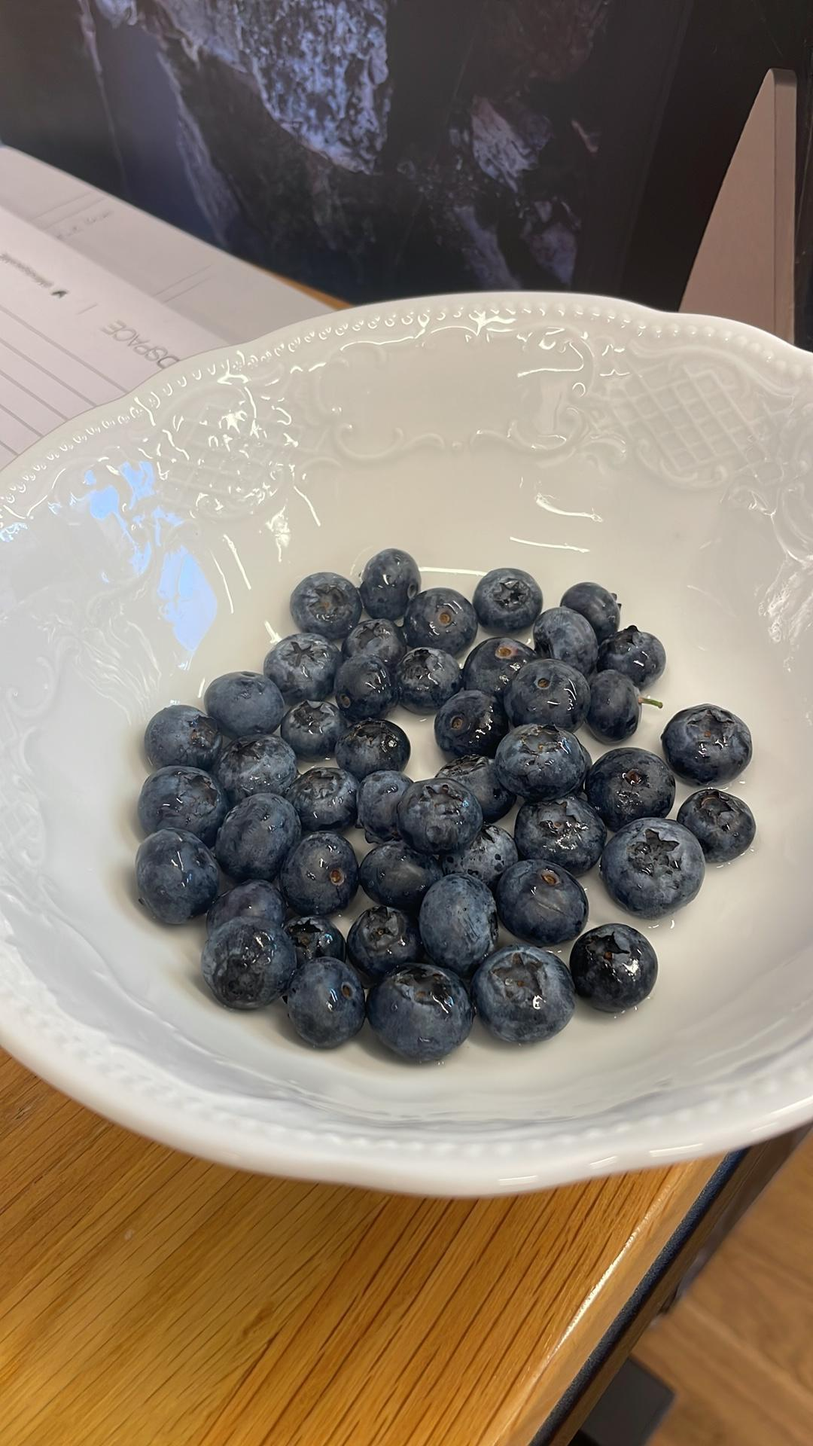blueberry: (370, 961, 486, 1062), (601, 815, 705, 918), (476, 941, 575, 1044), (132, 828, 226, 925), (568, 920, 656, 1010), (288, 956, 372, 1050), (495, 857, 589, 940), (586, 742, 679, 825), (419, 871, 499, 963), (514, 787, 602, 869), (661, 705, 752, 784), (495, 722, 587, 798), (202, 926, 293, 1001), (672, 787, 757, 865), (397, 775, 484, 850), (282, 830, 357, 916), (223, 801, 301, 882), (500, 657, 590, 727), (135, 774, 227, 839), (144, 702, 225, 774), (358, 844, 447, 907), (203, 668, 285, 735), (212, 732, 296, 795), (290, 567, 361, 640), (405, 583, 476, 656), (442, 689, 512, 762), (438, 756, 521, 816), (355, 545, 423, 618), (396, 645, 466, 715), (261, 631, 340, 693), (336, 719, 414, 781), (474, 561, 542, 632), (582, 670, 649, 742), (460, 630, 533, 696), (537, 602, 602, 674), (290, 764, 363, 826), (603, 616, 666, 684), (333, 657, 398, 722), (348, 904, 417, 965), (210, 874, 283, 929), (445, 824, 513, 882), (356, 767, 408, 837), (278, 695, 341, 751), (565, 582, 623, 636), (345, 612, 398, 659), (286, 916, 347, 955)
